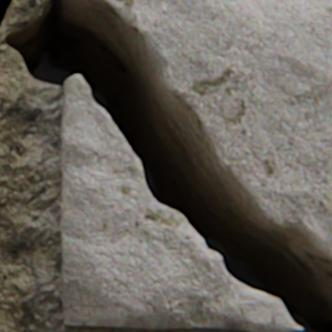broken_brick: (89, 0, 331, 260), (61, 75, 301, 331)
crack: (0, 0, 331, 331)
